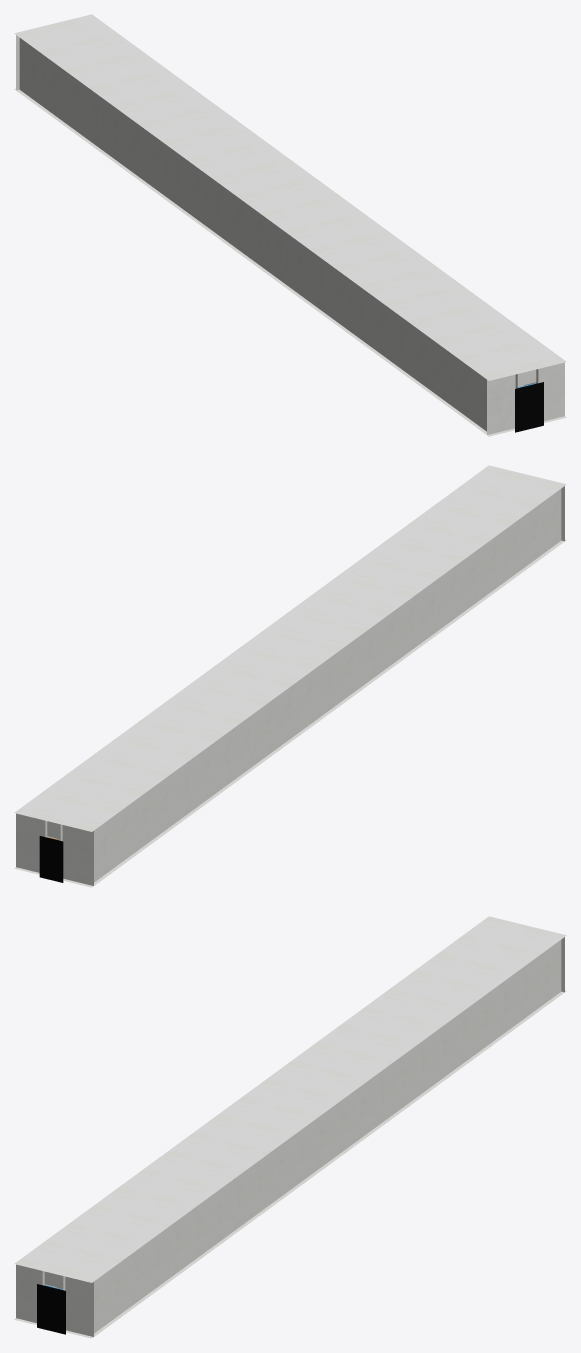
The model's file is rdwe_stretching_hall.glb.
The picture shows the model from 3 angles, top to bottom: view 1: azimuth 30°, elevation 25°; view 2: azimuth 150°, elevation 25°; view 3: azimuth 330°, elevation 25°; orthographic projection.
Parts seen in each view (by area): view 1: Ceil_White, Wall_White, Floor_White, Void; view 2: Ceil_White, Wall_White, Floor_White, Void; view 3: Ceil_White, Wall_White, Floor_White, Void.
Part boxes in pixels (x1,y1,x2,y2): Ceil_White: [14, 14, 566, 380]; Wall_White: [16, 35, 564, 434]; Floor_White: [14, 88, 566, 436]; Void: [515, 382, 543, 432]; Ceil_White: [14, 465, 566, 831]; Wall_White: [16, 486, 564, 885]; Floor_White: [14, 539, 566, 887]; Void: [39, 836, 63, 882]; Ceil_White: [14, 916, 566, 1282]; Wall_White: [16, 937, 564, 1336]; Floor_White: [14, 990, 566, 1338]; Void: [37, 1284, 65, 1334].
Bounding box in the file's own units: 4.4 × 3.05 × 46.7.
Materials: 13 (8 with a texture image).
